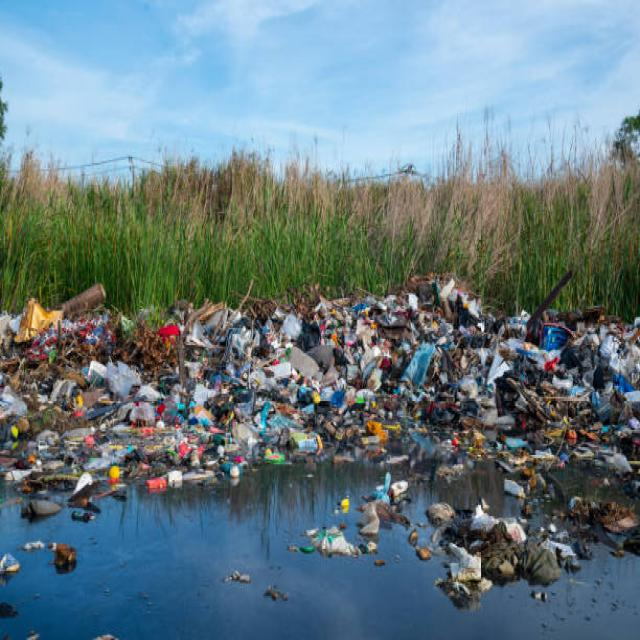plastic: (35, 307, 614, 448)
